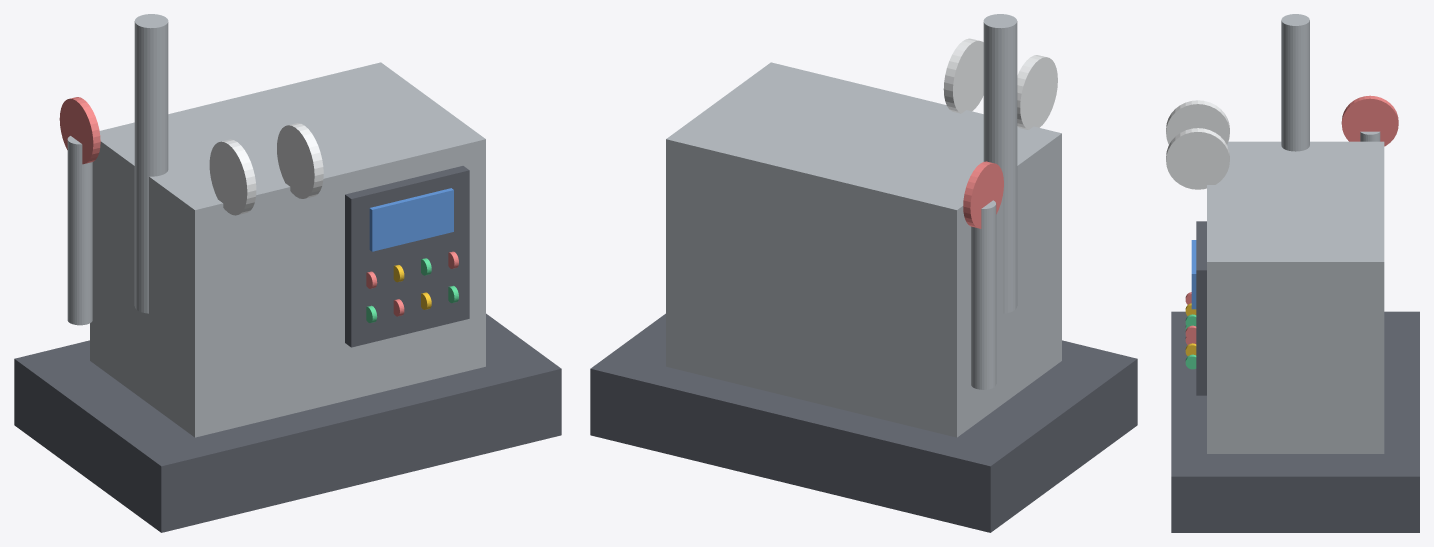
The model's file is asset_battery.glb.
3 renders of one model, left to right at view 1: azimuth 30°, elevation 25°; view 2: azimuth 150°, elevation 25°; view 3: azimuth 270°, elevation 25°, orthographic. The views are drawn at different scales.
Parts seen in each view (by area): view 1: cabinet, base, panel, pipe, vpipe, display, gauge_r, gauge_l, valve; view 2: cabinet, base, pipe, vpipe, gauge_l, gauge_r, valve; view 3: cabinet, base, pipe, gauge_r, valve, panel, gauge_l, display.
Part boxes in pixels (left/top/right/bottom): cabinet: left=90, top=62, right=485, bottom=437; base: left=14, top=313, right=561, bottom=532; panel: left=345, top=166, right=469, bottom=347; pipe: left=134, top=14, right=168, bottom=313; vpipe: left=67, top=136, right=92, bottom=325; display: left=369, top=188, right=453, bottom=251; gauge_r: left=277, top=123, right=323, bottom=198; gauge_l: left=209, top=139, right=256, bottom=215; valve: left=59, top=97, right=100, bottom=164; cabinet: left=666, top=62, right=1061, bottom=437; base: left=590, top=313, right=1137, bottom=532; pipe: left=983, top=14, right=1017, bottom=313; vpipe: left=971, top=200, right=996, bottom=389; gauge_l: left=1017, top=55, right=1057, bottom=129; gauge_r: left=943, top=38, right=983, bottom=113; valve: left=963, top=161, right=1003, bottom=228; cabinet: left=1207, top=141, right=1384, bottom=453; base: left=1171, top=311, right=1419, bottom=532; pipe: left=1281, top=14, right=1309, bottom=151; gauge_r: left=1166, top=128, right=1229, bottom=189; valve: left=1341, top=95, right=1398, bottom=146; panel: left=1196, top=221, right=1206, bottom=395; gauge_l: left=1166, top=100, right=1229, bottom=144; display: left=1191, top=240, right=1196, bottom=309.
Bounding box in the file's own units: 2.2 × 2.33 × 1.43.
